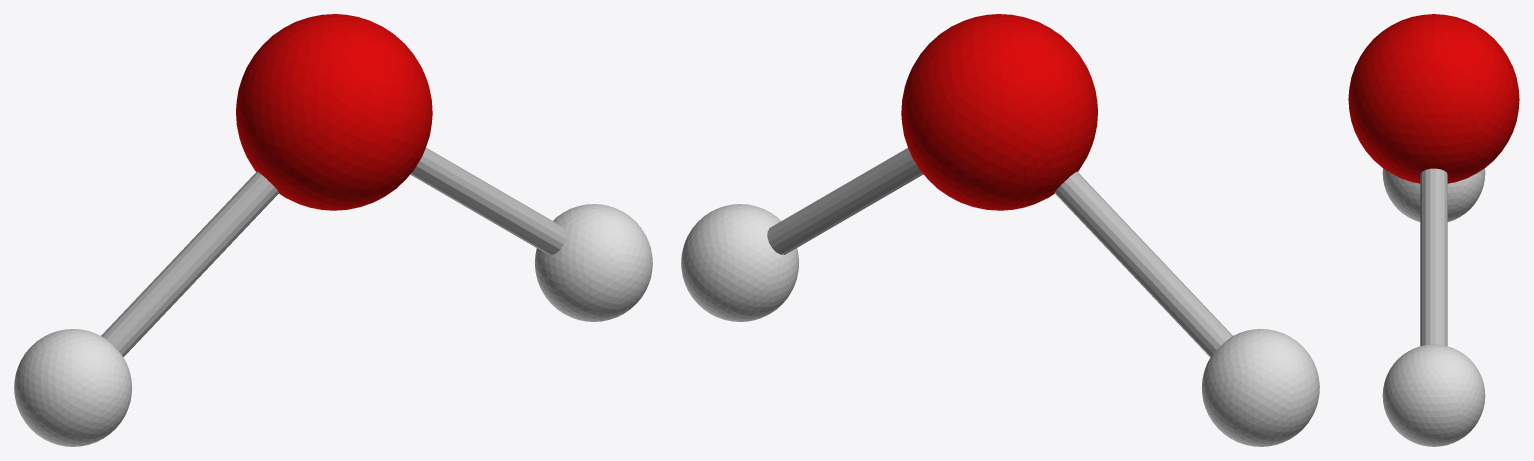
3 renders of one model, left to right at view 1: azimuth 30°, elevation 25°; view 2: azimuth 150°, elevation 25°; view 3: azimuth 270°, elevation 25°, orthographic. The views are drawn at different scales.
Visible parts, largest first — view 1: world; view 2: world; view 3: world.
Part boxes in pixels (x1,y1,x2,y2): world: [14, 14, 652, 446]; world: [681, 14, 1319, 446]; world: [1348, 14, 1519, 446].
Size of the model in its own units: 1.83 by 0.9997 by 0.5.
